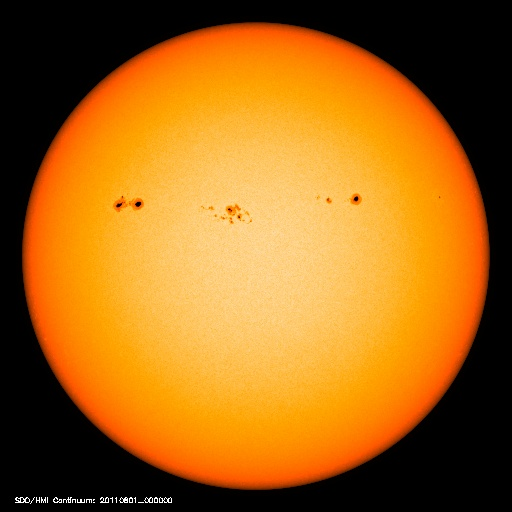sunspot: (192, 196, 259, 233), (305, 184, 370, 213), (102, 189, 154, 220)
